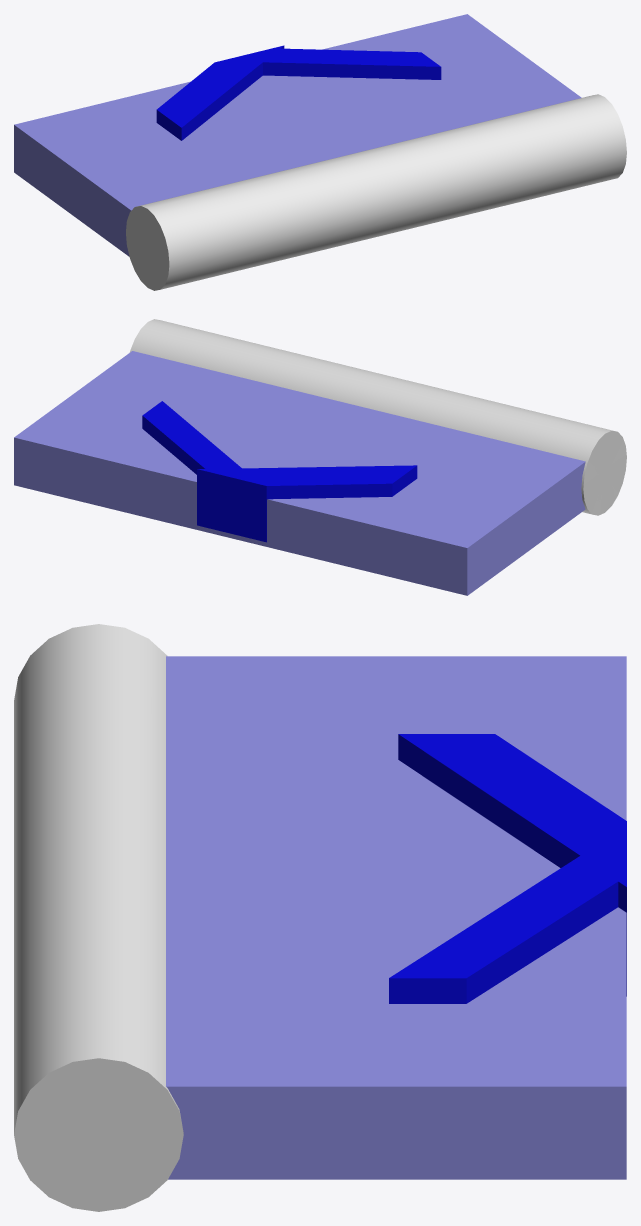
File: X_Left.fbx
3 renders of one model, top to bottom at view 1: azimuth 30°, elevation 25°; view 2: azimuth 150°, elevation 25°; view 3: azimuth 270°, elevation 25°, orthographic. The views are drawn at different scales.
Visible parts, largest first — view 1: pasted__polySurface7; view 2: pasted__polySurface7; view 3: pasted__polySurface7.
Boxes of the visible parts, x1,y1,x2,y2 form: pasted__polySurface7: [14, 14, 626, 290]; pasted__polySurface7: [14, 319, 626, 595]; pasted__polySurface7: [14, 624, 626, 1211].
Size of the model in its own units: 6.05 by 1 by 3.61.
